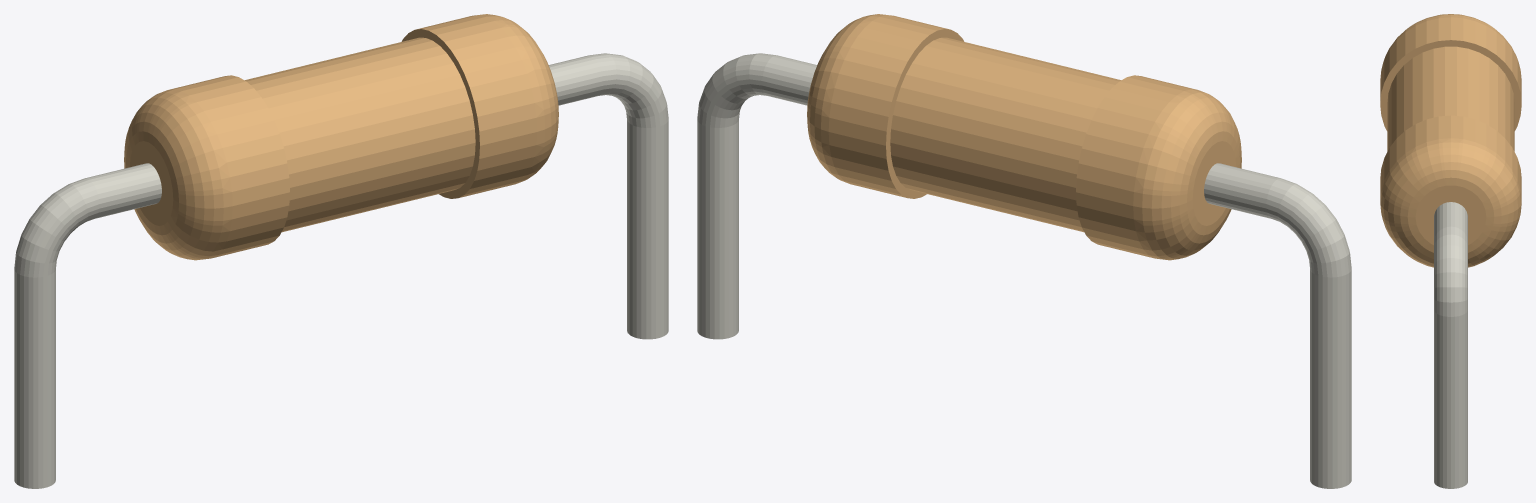
3 views of the same model, side by side, from view 1: azimuth 30°, elevation 25°; view 2: azimuth 150°, elevation 25°; view 3: azimuth 270°, elevation 25° (orthographic). The views are drawn at different scales.
Visible parts, largest first — view 1: r1_0, r1_1; view 2: r1_0, r1_1; view 3: r1_0, r1_1.
Boxes of the visible parts, x1=… form: r1_0: x1=124, y1=14, x2=558, y2=260; r1_1: x1=14, y1=53, x2=668, y2=488; r1_0: x1=807, y1=14, x2=1241, y2=260; r1_1: x1=697, y1=53, x2=1351, y2=488; r1_0: x1=1380, y1=14, x2=1521, y2=267; r1_1: x1=1434, y1=202, x2=1467, y2=488.
Bounding box in the file's own units: 10.76 × 5.5 × 2.5.
